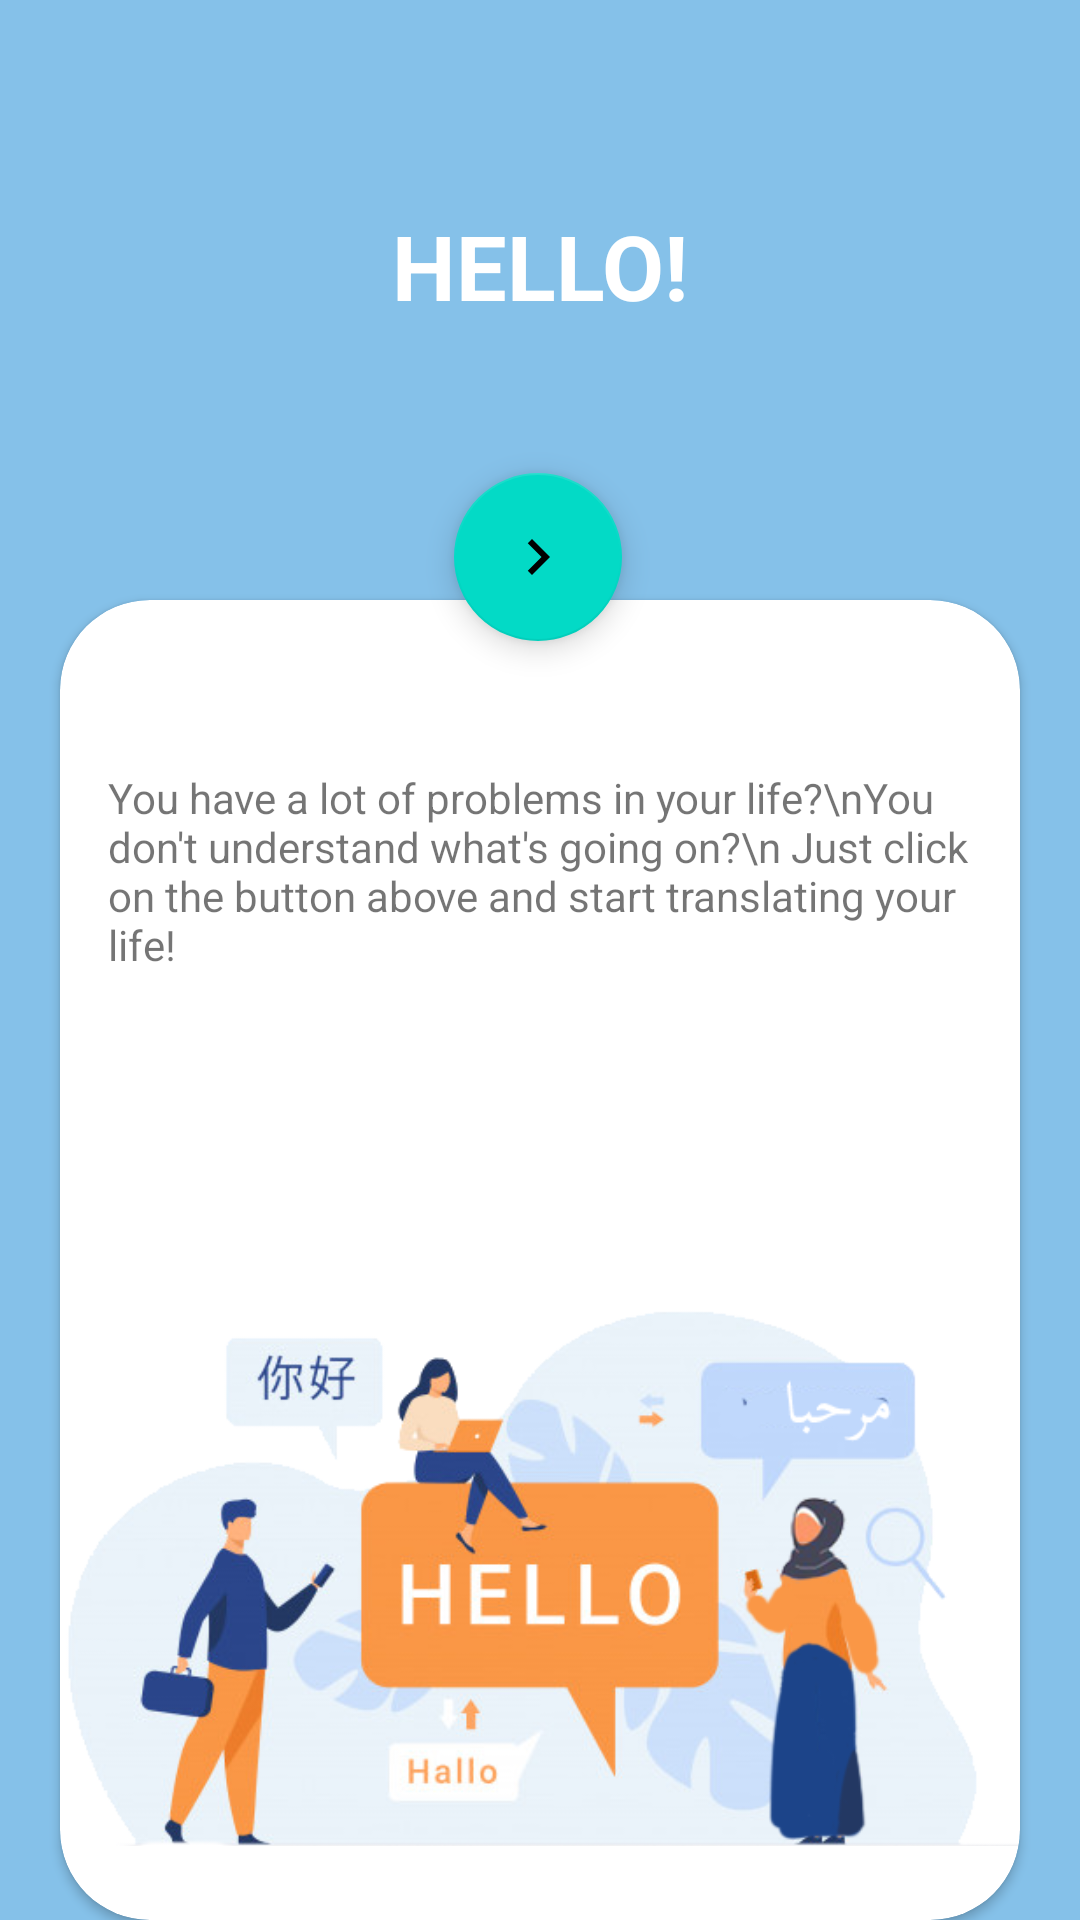

Where to tap for icons on this 1080*1920 app screen, as (x=x, y=y):
chevron right: (x=538, y=557)
